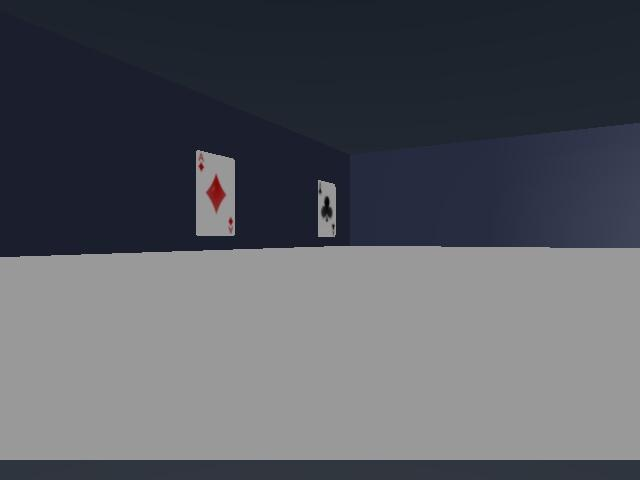club: (318, 181, 335, 236)
diamond: (196, 151, 235, 235)
